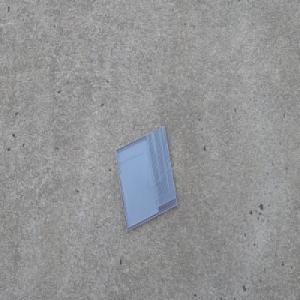PlasticPart: (114, 124, 178, 231)
